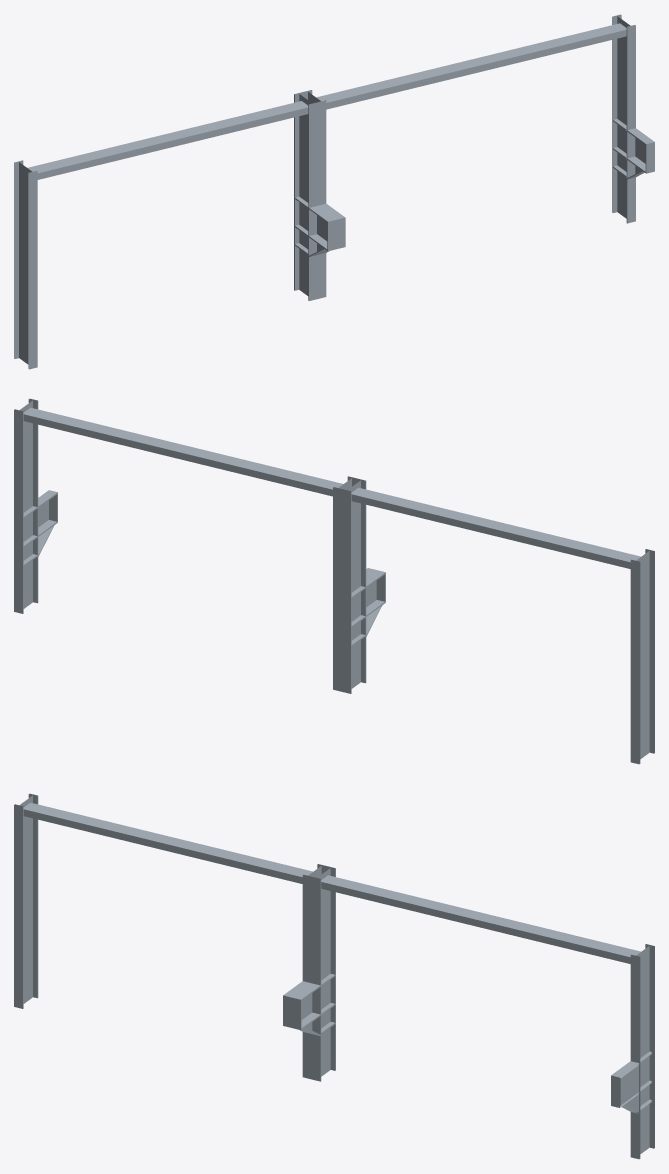
Rendered from SM06_Building_Structure_Wall_Top_Flat_01_Corner.fbx.
3 renders of one model, top to bottom at view 1: azimuth 30°, elevation 25°; view 2: azimuth 150°, elevation 25°; view 3: azimuth 330°, elevation 25°, orthographic. The views are drawn at different scales.
Visible parts, largest first — view 1: SM06_Building_Structure_Wall_Top_Flat_01_Corner; view 2: SM06_Building_Structure_Wall_Top_Flat_01_Corner; view 3: SM06_Building_Structure_Wall_Top_Flat_01_Corner.
Boxes of the visible parts, x1,y1,x2,y2 form: SM06_Building_Structure_Wall_Top_Flat_01_Corner: [14, 14, 654, 369]; SM06_Building_Structure_Wall_Top_Flat_01_Corner: [14, 398, 654, 764]; SM06_Building_Structure_Wall_Top_Flat_01_Corner: [14, 793, 654, 1159].
Bounding box in the file's own units: 13.83 × 4.27 × 1.34.
